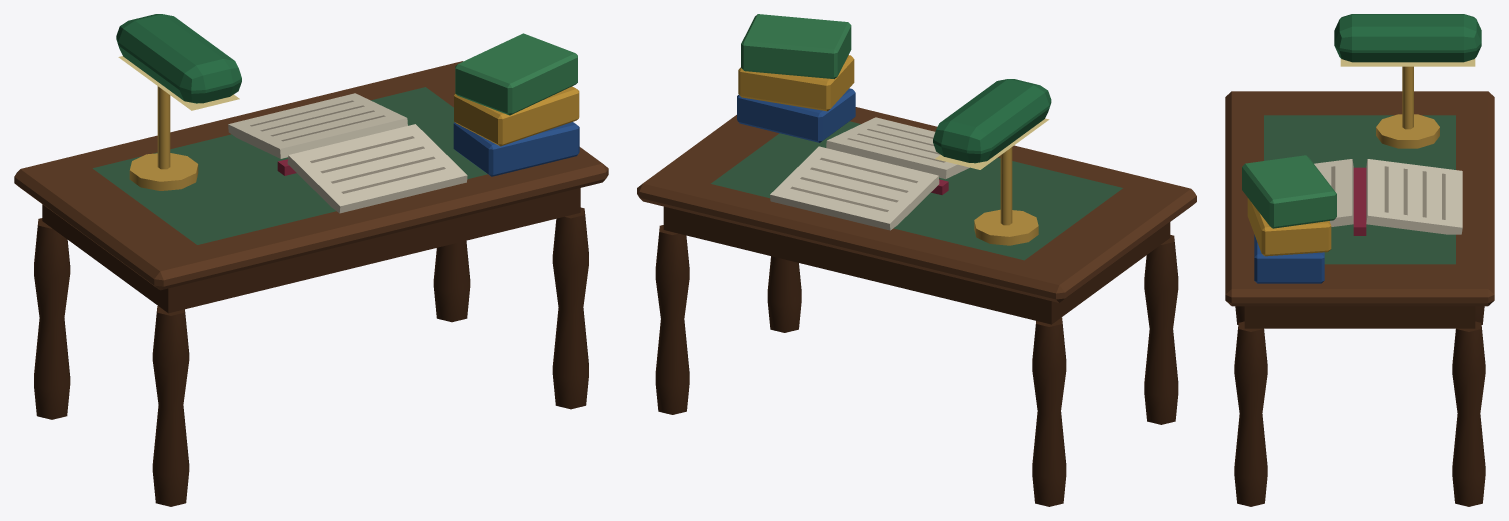
File: library-prop1.glb
3 renders of one model, left to right at view 1: azimuth 30°, elevation 25°; view 2: azimuth 150°, elevation 25°; view 3: azimuth 270°, elevation 25°, orthographic. The views are drawn at different scales.
Visible parts, largest first — view 1: library-prop1; view 2: library-prop1; view 3: library-prop1.
Boxes of the visible parts, box(x1,y1,x2,y2) form: library-prop1: box(14, 14, 608, 506); library-prop1: box(637, 14, 1196, 506); library-prop1: box(1225, 14, 1494, 506).
Bounding box in the file's own units: 1.5 × 1.18 × 0.84.
